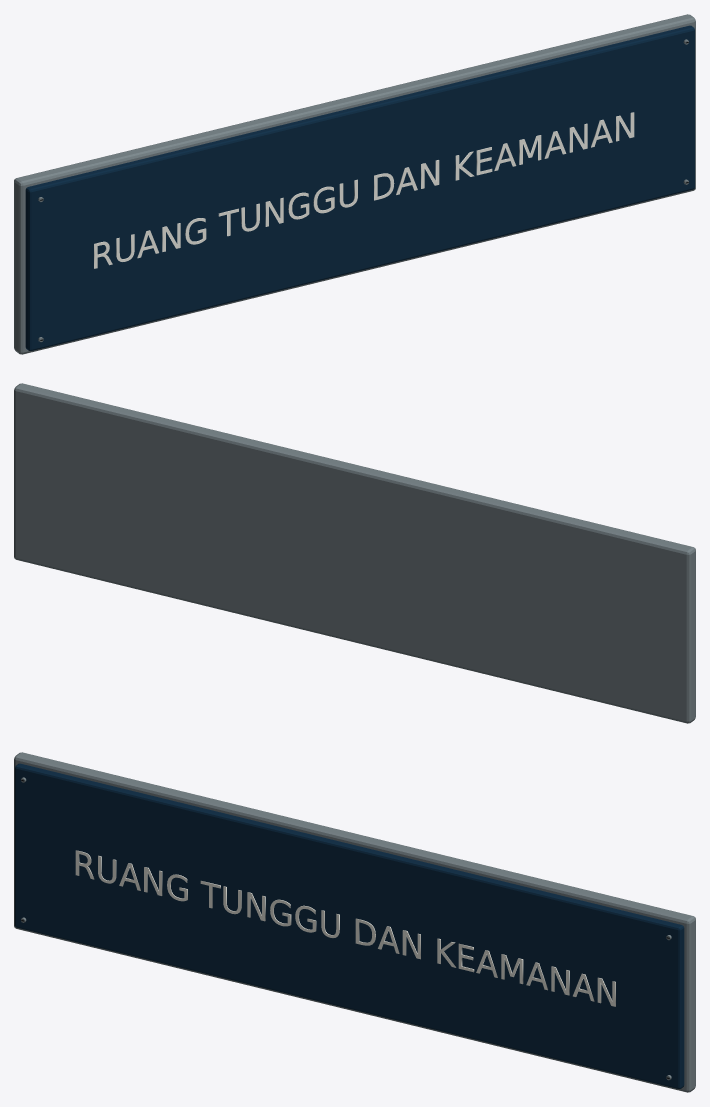
Rendered from OAA_Papan_Ruang_Ruang_Tunggu_dan_Keamanan.fbx.
The picture shows the model from 3 angles, top to bottom: view 1: azimuth 30°, elevation 25°; view 2: azimuth 150°, elevation 25°; view 3: azimuth 330°, elevation 25°; orthographic projection.
Visible parts, largest first — view 1: Body; view 2: Body; view 3: Body.
Part boxes in pixels (x1,y1,x2,y2): Body: (14, 14, 695, 354); Body: (14, 383, 695, 723); Body: (14, 752, 695, 1092).
Bounding box in the file's own units: 0.9 × 0.22 × 0.0312.
